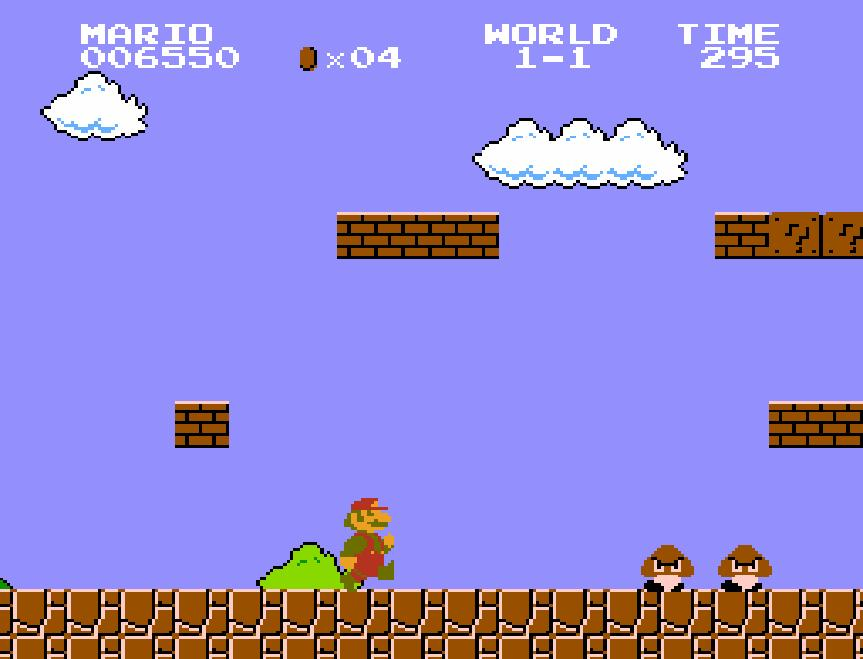big_mario: (338, 496, 396, 594)
